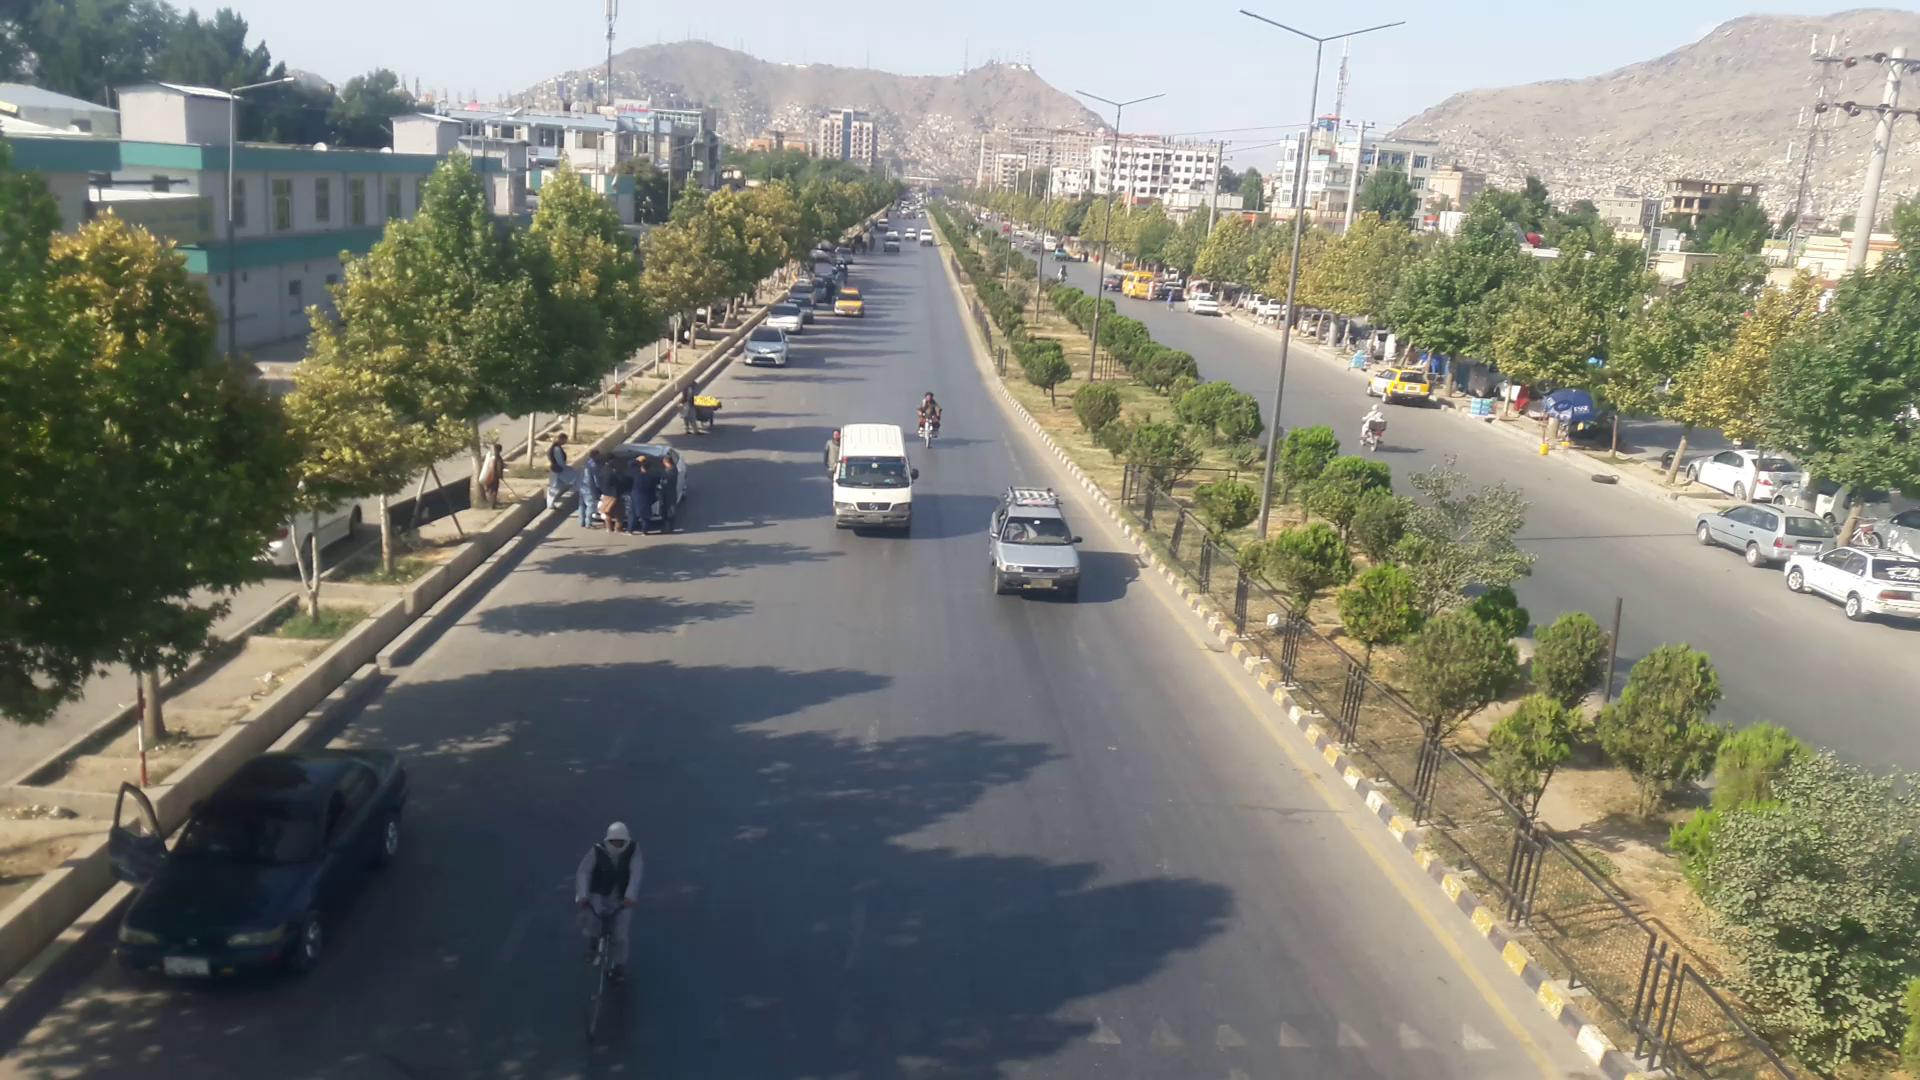bike: (915, 392, 945, 446), (1361, 405, 1391, 450)
bus: (832, 426, 918, 530)
car: (131, 753, 410, 967), (1788, 539, 1920, 629), (984, 491, 1091, 600), (1697, 502, 1849, 568), (1693, 448, 1803, 498), (1365, 368, 1436, 402), (748, 330, 798, 365), (766, 303, 803, 335), (833, 287, 864, 315)
